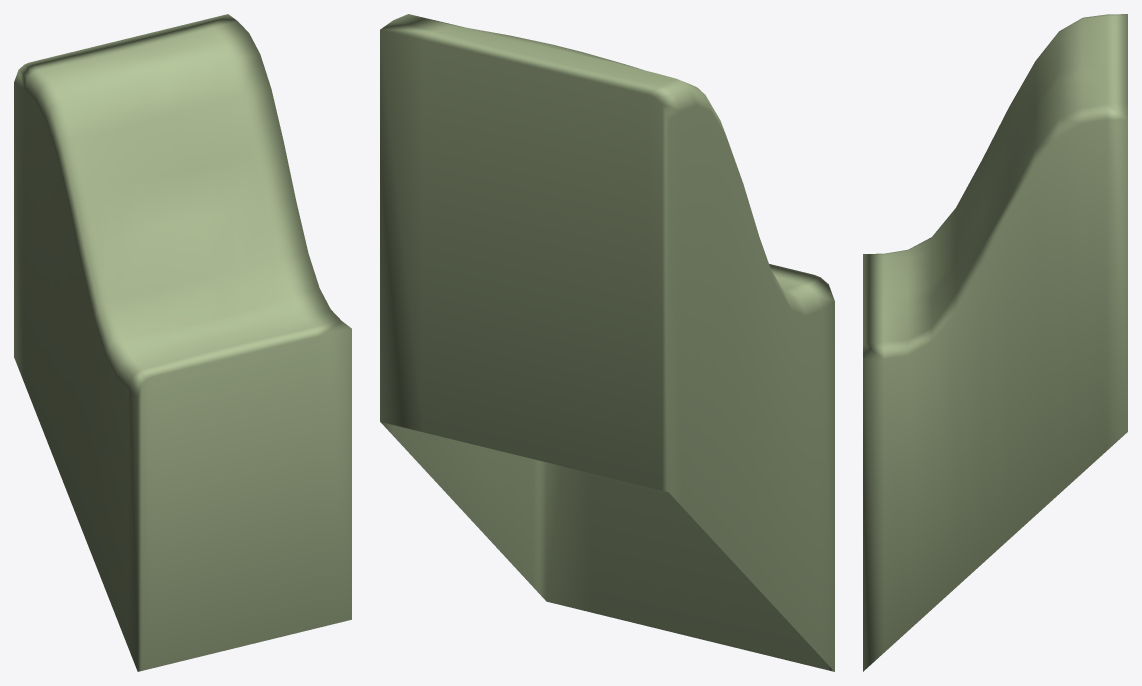
File: ground-ramp-l-22.glb
3 views of the same model, side by side, from view 1: azimuth 30°, elevation 25°; view 2: azimuth 150°, elevation 25°; view 3: azimuth 270°, elevation 25° (orthographic). The views are drawn at different scales.
Parts seen in each view (by area): view 1: ground-ramp-l-22; view 2: ground-ramp-l-22; view 3: ground-ramp-l-22.
Boxes of the visible parts, x1,y1,x2,y2 form: ground-ramp-l-22: [14, 14, 351, 671]; ground-ramp-l-22: [380, 14, 834, 671]; ground-ramp-l-22: [863, 14, 1127, 671].
Bounding box in the file's own units: 1 × 2.3 × 1.
